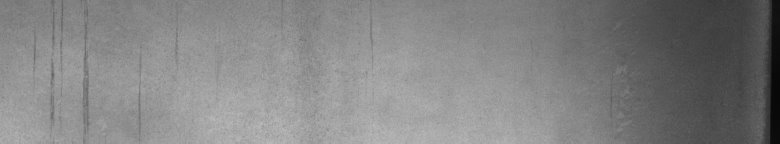ka: (34, 4, 140, 126)
